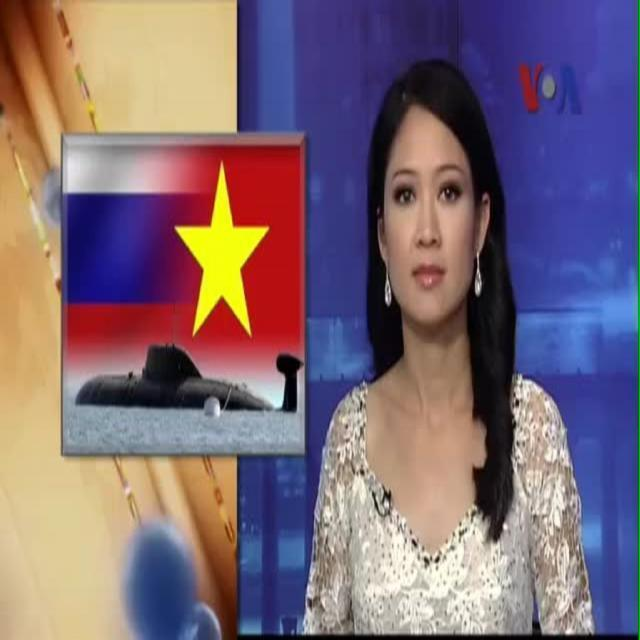closed-mouth: (411, 260, 448, 289)
